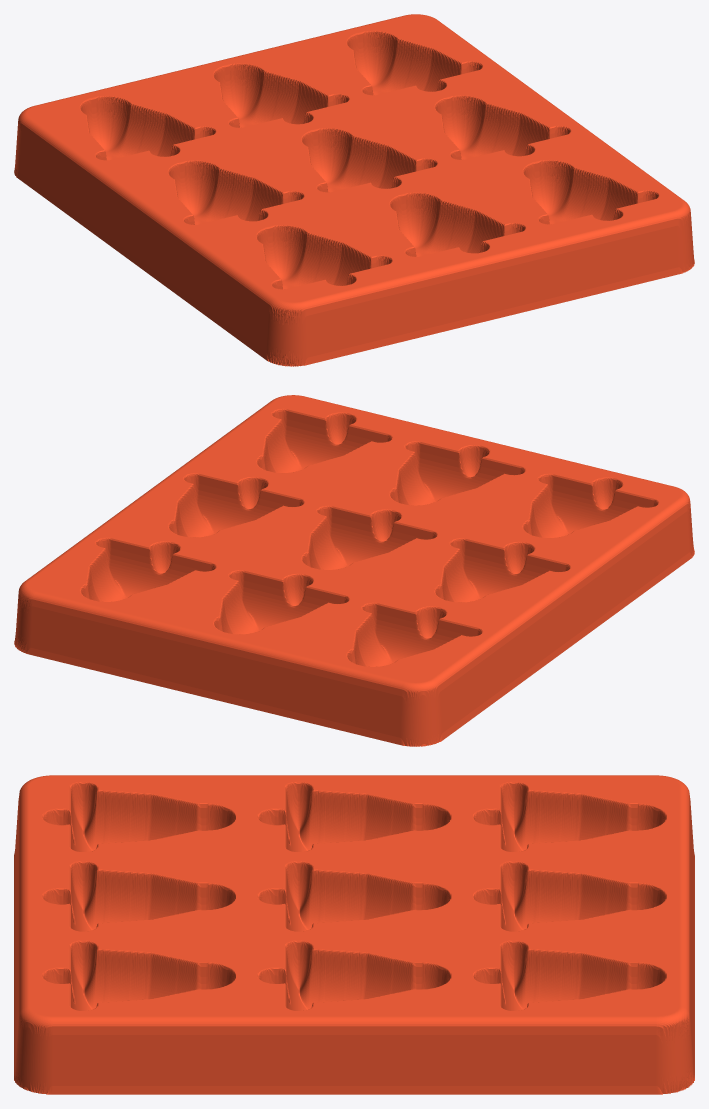
Rendered from mold.glb.
The picture shows the model from 3 angles, top to bottom: view 1: azimuth 30°, elevation 25°; view 2: azimuth 150°, elevation 25°; view 3: azimuth 270°, elevation 25°; orthographic projection. The views are drawn at different scales.
Visible parts, largest first — view 1: geometry_0; view 2: geometry_0; view 3: geometry_0.
Boxes of the visible parts, bbox=[...] form: geometry_0: bbox=[14, 14, 694, 366]; geometry_0: bbox=[14, 395, 694, 746]; geometry_0: bbox=[14, 775, 694, 1094].
Size of the model in its own units: 0.1403 by 0.0185 by 0.1595.
